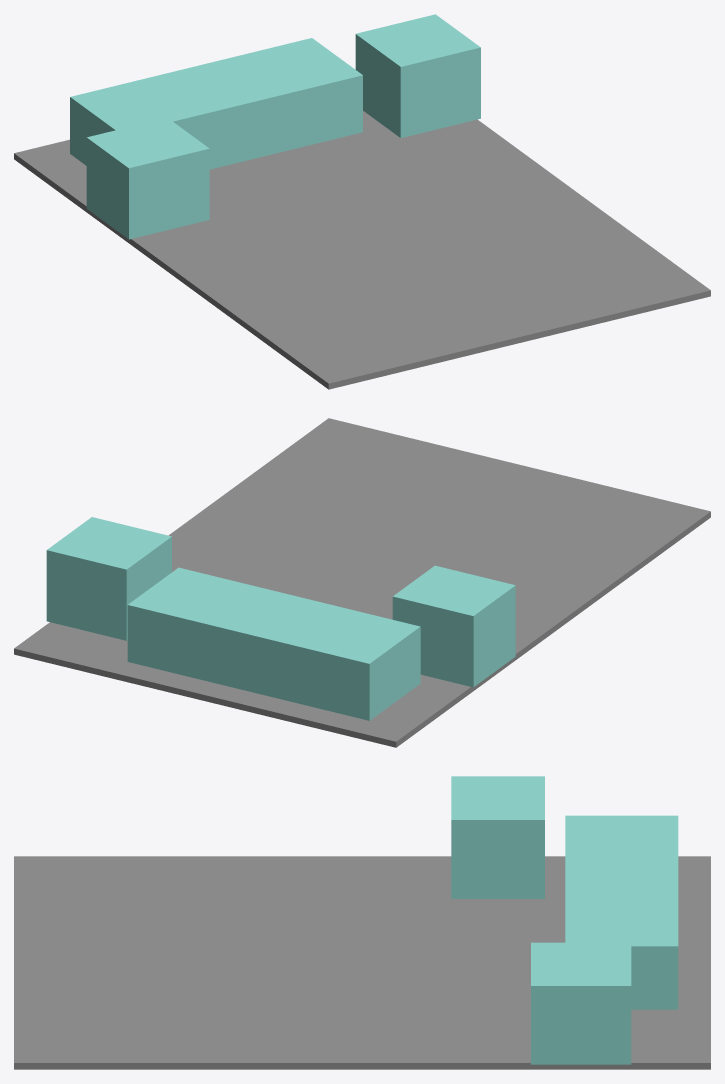
The model's file is Floor and Crates.FBX.
3 renders of one model, top to bottom at view 1: azimuth 30°, elevation 25°; view 2: azimuth 150°, elevation 25°; view 3: azimuth 270°, elevation 25°, orthographic. The views are drawn at different scales.
Visible parts, largest first — view 1: Floor, Crate2, Crate3, Crate1; view 2: Floor, Crate2, Crate3, Crate1; view 3: Floor, Crate2, Crate3, Crate1.
Boxes of the visible parts, left/top/right/bottom form: Floor: left=14, top=111, right=710, bottom=389; Crate2: left=70, top=38, right=362, bottom=169; Crate3: left=355, top=14, right=480, bottom=137; Crate1: left=86, top=117, right=209, bottom=239; Floor: left=14, top=418, right=710, bottom=747; Crate2: left=127, top=567, right=420, bottom=720; Crate3: left=46, top=517, right=171, bottom=640; Crate1: left=392, top=565, right=515, bottom=687; Floor: left=14, top=856, right=710, bottom=1069; Crate2: left=565, top=815, right=678, bottom=1009; Crate3: left=531, top=942, right=631, bottom=1064; Crate1: left=451, top=776, right=544, bottom=898.
Size of the model in its own units: 198 by 37.67 by 278.
